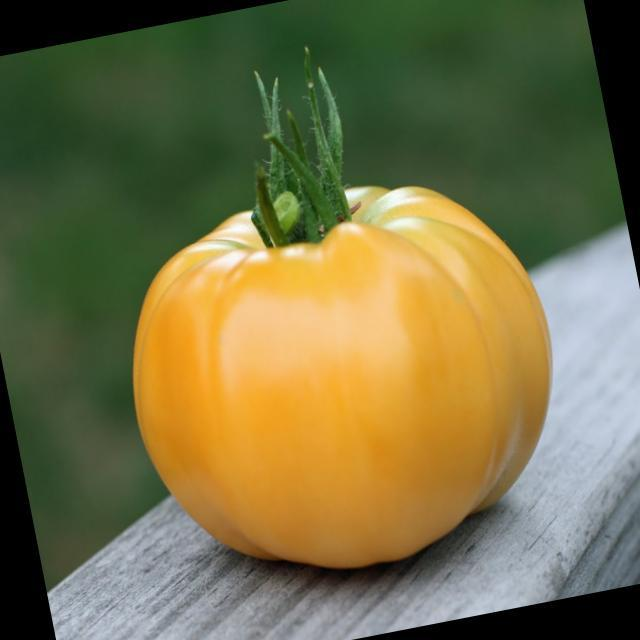TOMATO: (100, 143, 596, 602)
